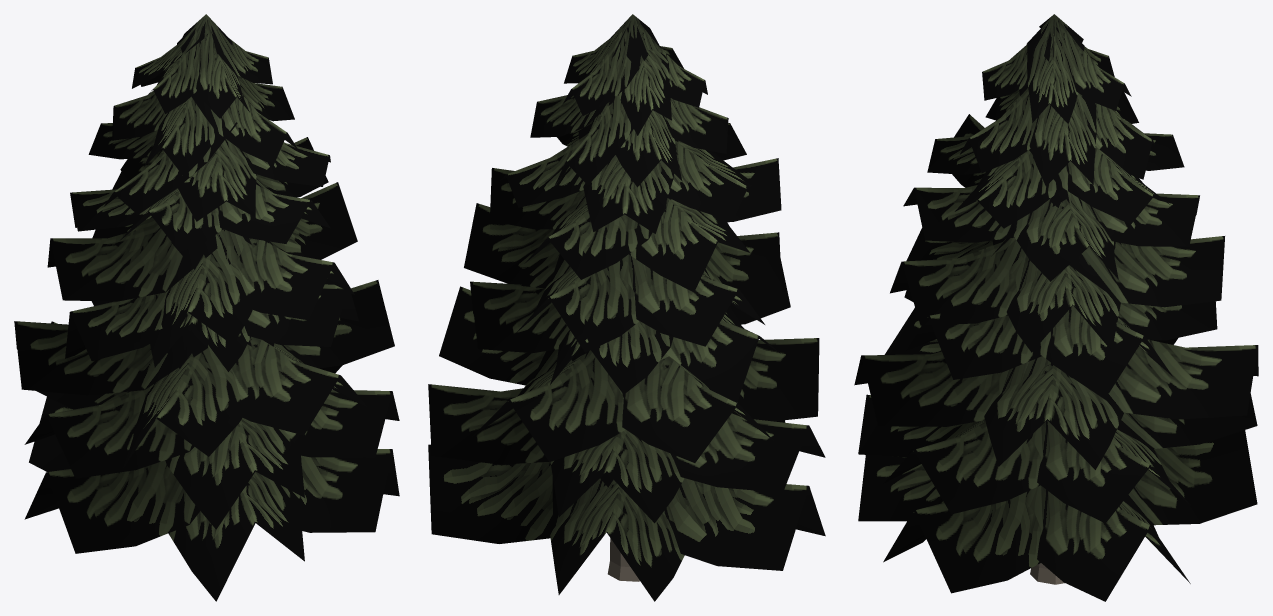
File: pine.glb
3 views of the same model, side by side, from view 1: azimuth 30°, elevation 25°; view 2: azimuth 150°, elevation 25°; view 3: azimuth 270°, elevation 25° (orthographic). The views are drawn at different scales.
Visible parts, largest first — view 1: pine-1; view 2: pine-1; view 3: pine-1.
Boxes of the visible parts, x1,y1,x2,y2 form: pine-1: (14,14,399,601); pine-1: (428,14,825,601); pine-1: (854,14,1258,601).
Size of the model in its own units: 2.99 by 4.58 by 3.
1 material, 1 textured.
